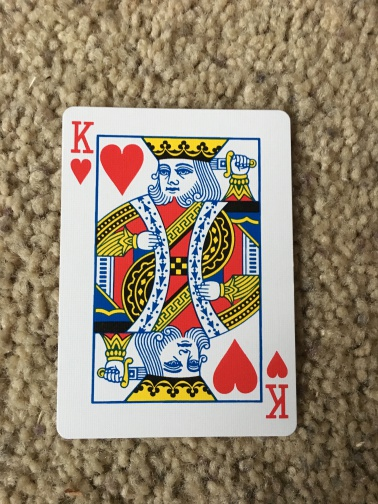king: (57, 105, 297, 438)
